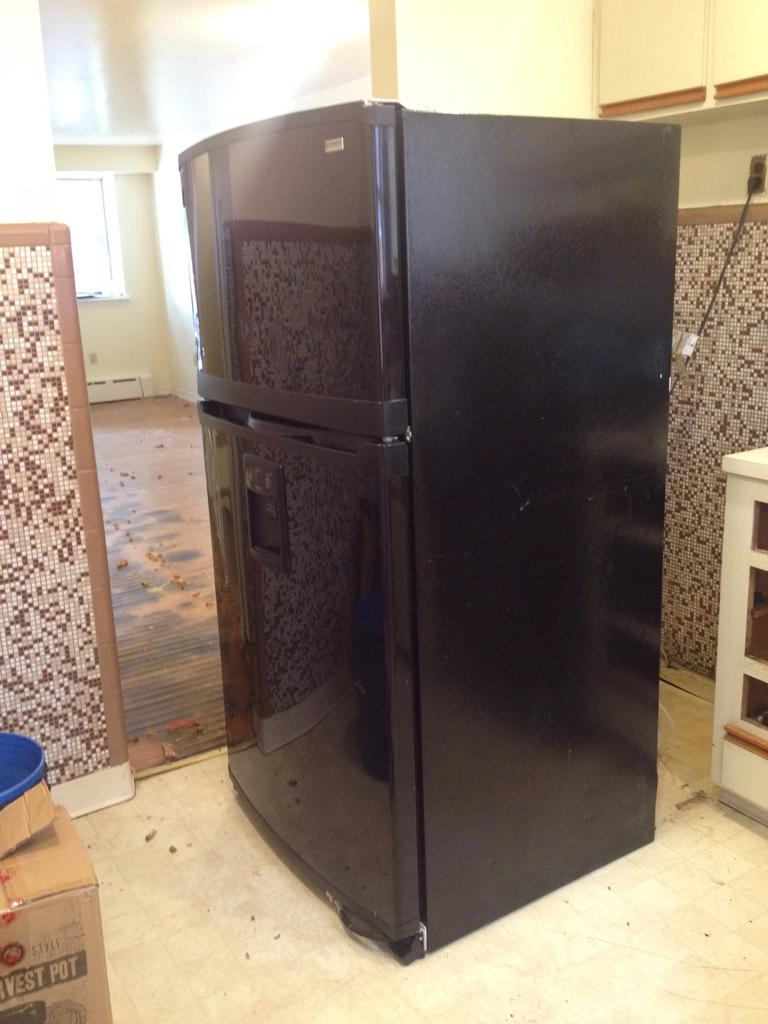handle: (196, 377, 392, 459)
